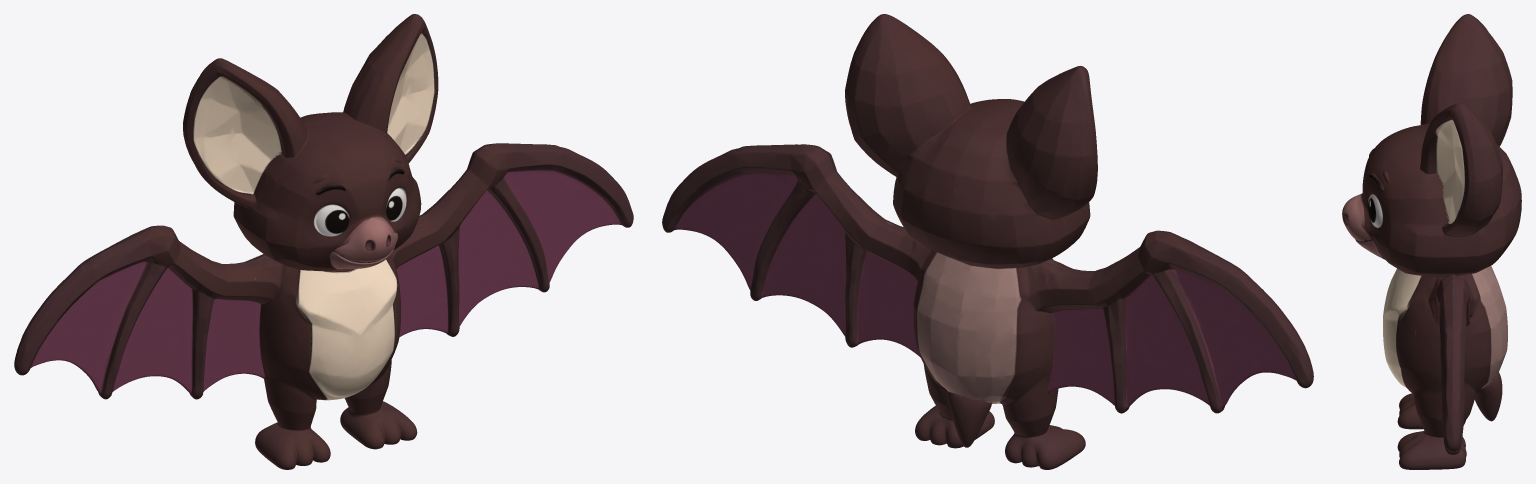
Rendered from bat.glb.
3 views of the same model, side by side, from view 1: azimuth 30°, elevation 25°; view 2: azimuth 150°, elevation 25°; view 3: azimuth 270°, elevation 25° (orthographic). The views are drawn at different scales.
Bounding box in the file's own units: 1.9 × 1.16 × 0.4992.
1 material, 1 textured.
